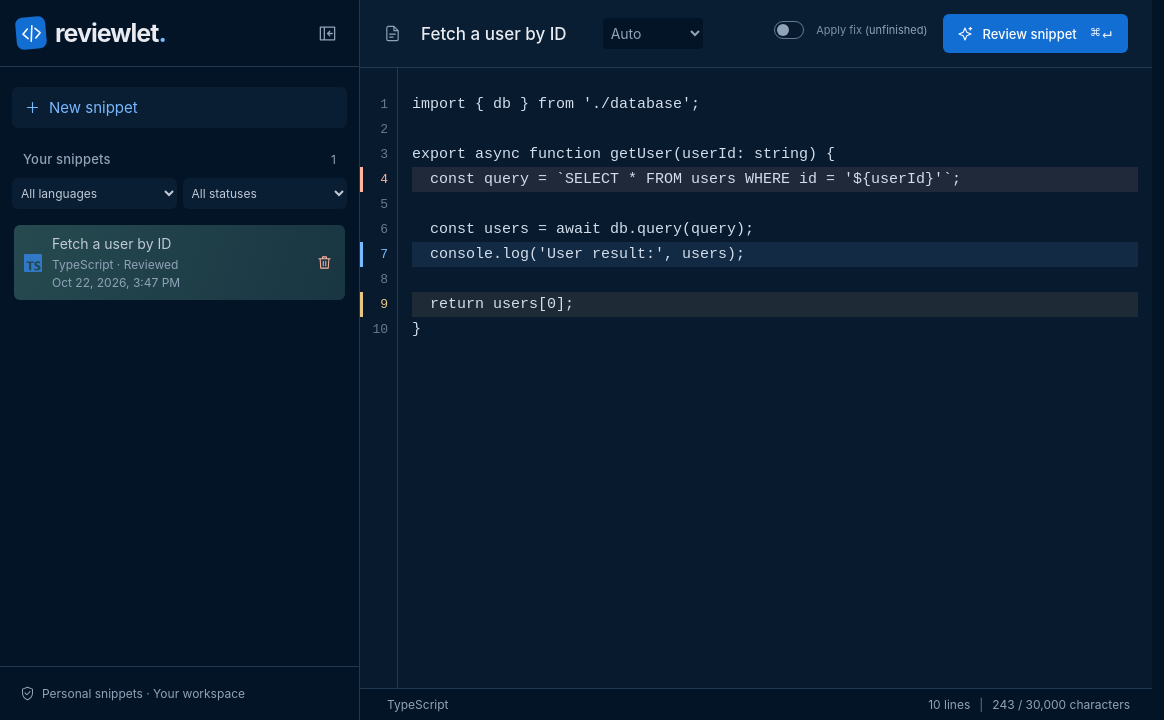
Test: snippet editor workspace › deletes another snippet without changing the current selection
Expected: the button "Fetch a user by ID" is shown, [14, 225, 345, 300]
Step 1. Click the button "New snippet" → (93, 108), box [12, 87, 347, 128]
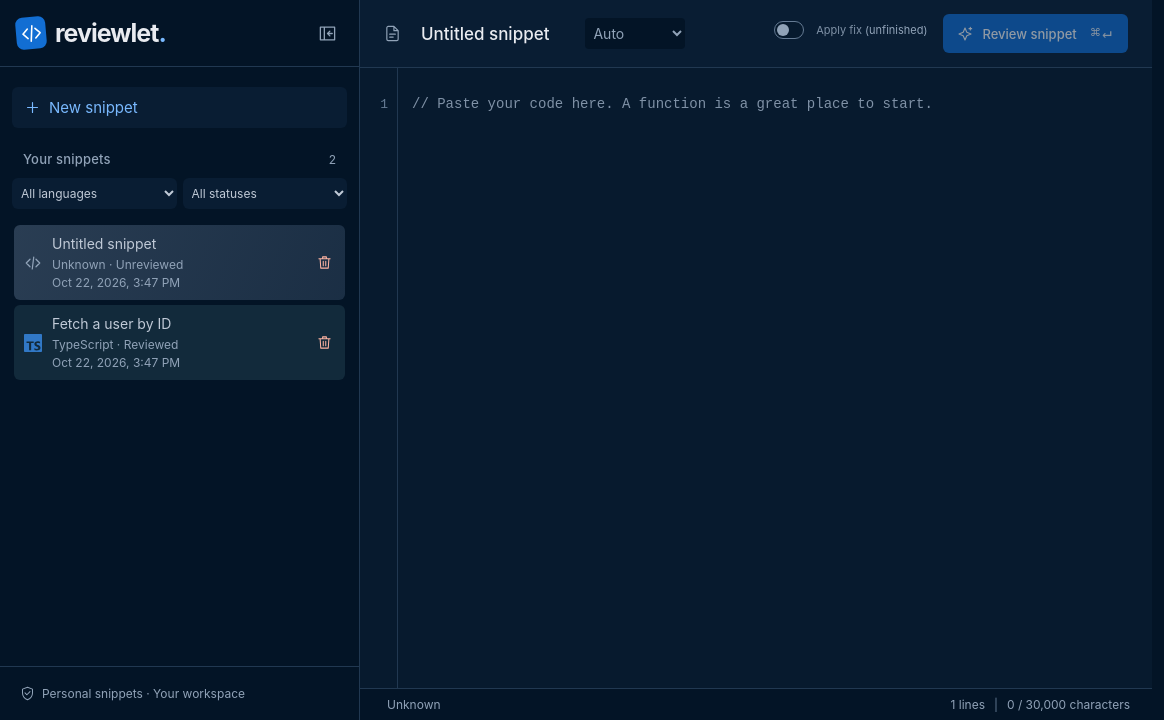
Step 2. Click the button named "Delete Fetch a user by ID" → (324, 342), box [310, 328, 338, 356]
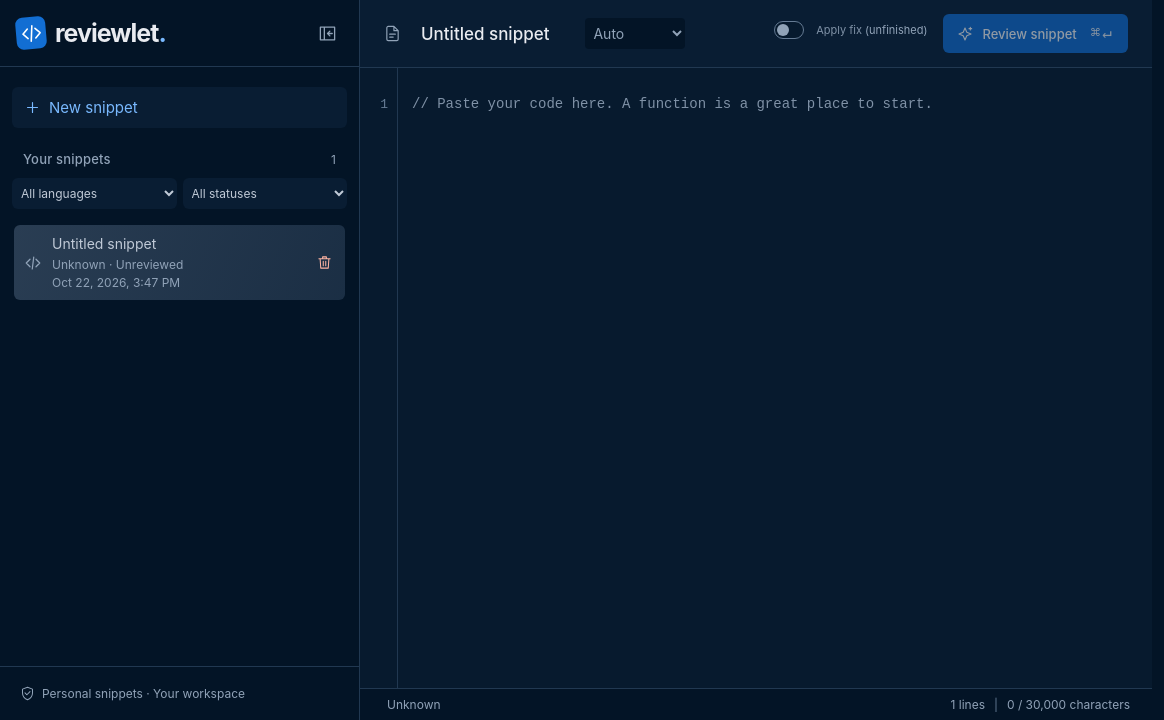
Expected: the field named "Snippet name" holds "Untitled snippet", [413, 16, 574, 50]
Expected: the button "Fetch a user by ID" is gone
